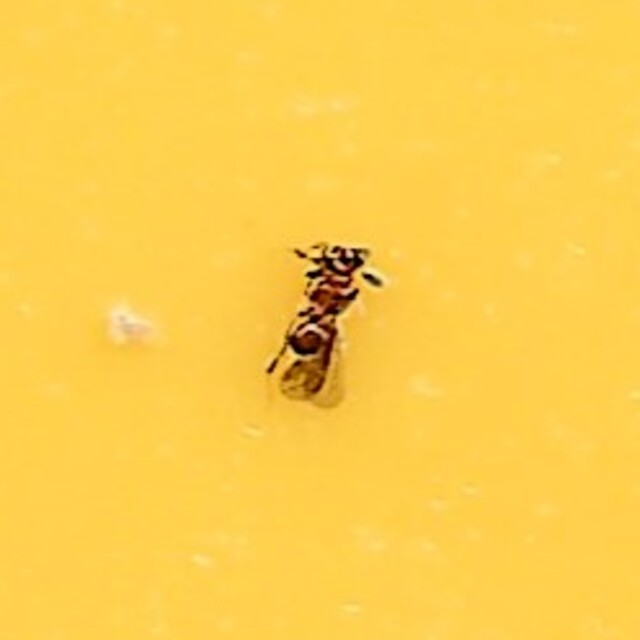Hymenoptera: (258, 234, 382, 406)
